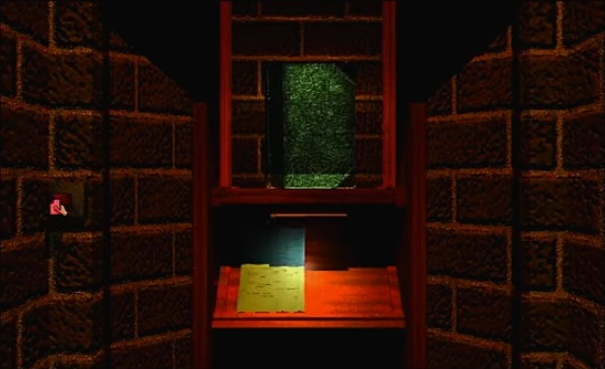Keep: (47, 196, 71, 218)
